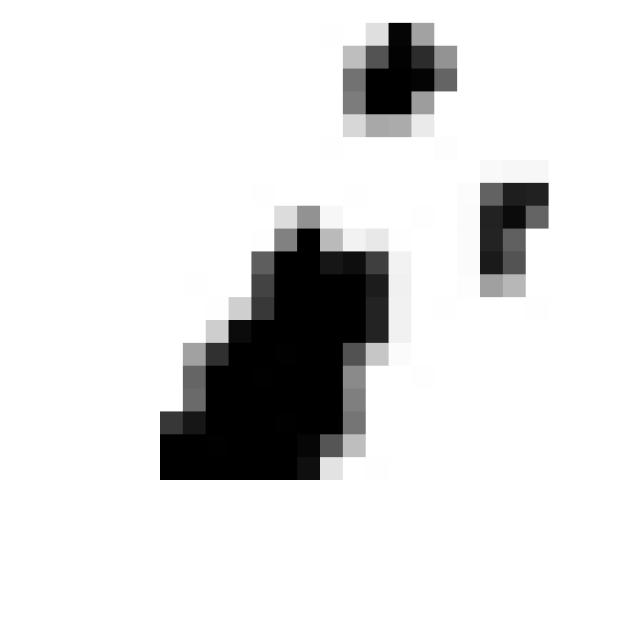0 -zero-: (139, 7, 562, 503)
